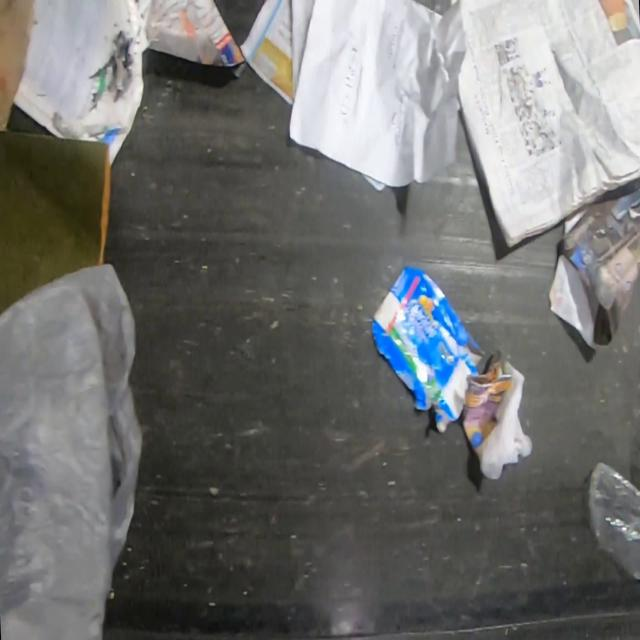cardboard: (0, 129, 111, 316), (370, 265, 484, 433), (0, 0, 35, 128)
soft_plastic: (0, 263, 143, 639), (589, 458, 640, 582)
